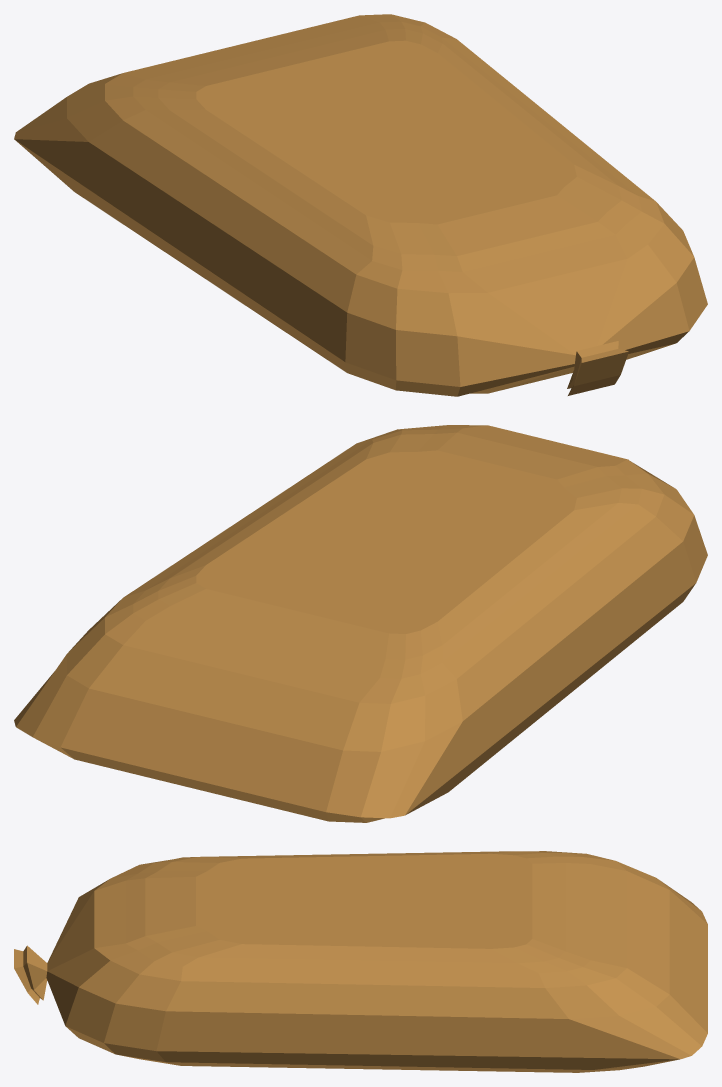
File: 3D_Sandbags-1.fbx
3 renders of one model, top to bottom at view 1: azimuth 30°, elevation 25°; view 2: azimuth 150°, elevation 25°; view 3: azimuth 270°, elevation 25°, orthographic. The views are drawn at different scales.
Visible parts, largest first — view 1: Cube; view 2: Cube; view 3: Cube.
Part boxes in pixels (bbox=[...]): Cube: bbox=[14, 14, 707, 396]; Cube: bbox=[14, 425, 707, 822]; Cube: bbox=[14, 851, 707, 1072].
Bounding box in the file's own units: 36.21 × 11.22 × 66.16.
